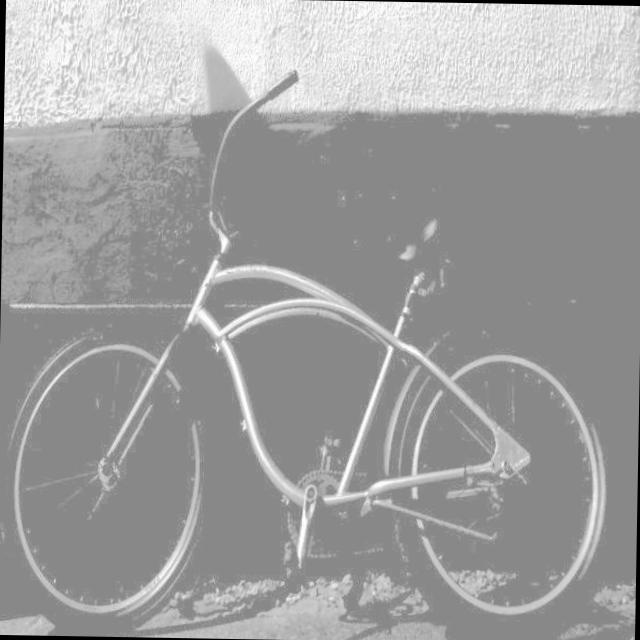Bicycle: (6, 123, 640, 640)
